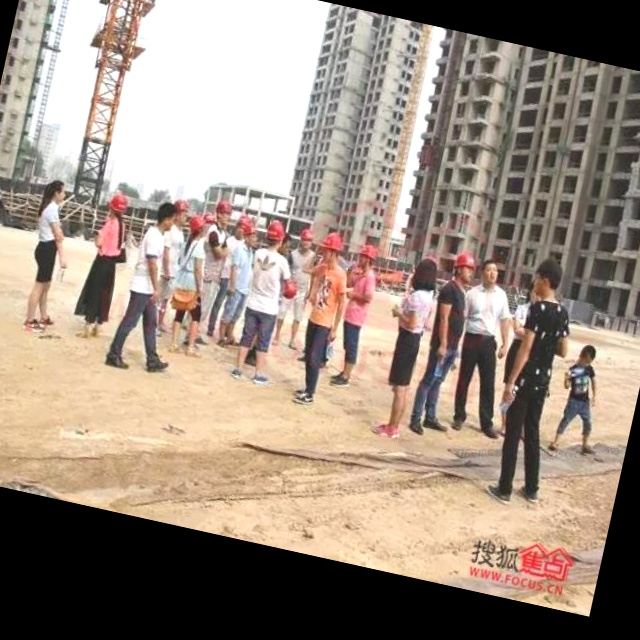Sin_Casco_Mascarrilla: (532, 256, 566, 298), (153, 199, 179, 233), (478, 257, 502, 288)
Sin_Chaleco: (509, 296, 572, 394), (242, 247, 290, 314), (394, 283, 436, 335)
